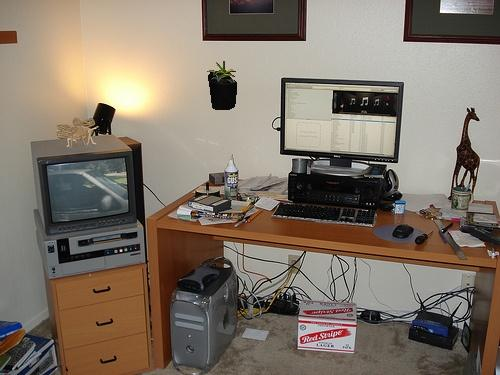tampered: (208, 62, 237, 110)
